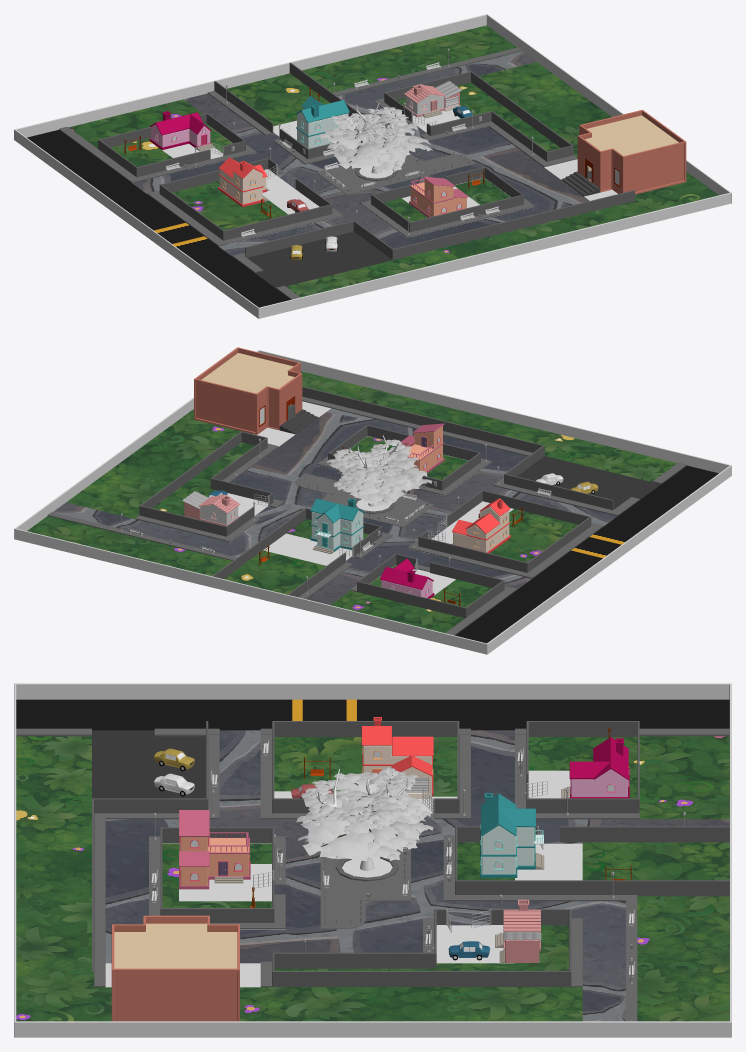
File: AllStreet.fbx
3 renders of one model, top to bottom at view 1: azimuth 30°, elevation 25°; view 2: azimuth 150°, elevation 25°; view 3: azimuth 270°, elevation 25°, orthographic. The views are drawn at different scales.
Parts seen in each view (by area): view 1: Plane.055, Plane.083, ca, Plane.014, Cylinder.011, Plane.013, Plane.011, Plane.012, Plane.009, Plane.029, Plane.084, Plane.005 (+12 smaller); view 2: Plane.055, Plane.083, ca, Cylinder.011, Plane.014, Plane.013, Plane.011, Plane.009, Plane.005, Plane.029, Plane.084, Plane.012 (+13 smaller); view 3: Plane.055, Plane.083, ca, Cylinder.011, Plane.013, Plane.005, Plane.029, Plane.011, Plane.009, Plane.040, Plane.036, Plane.012 (+23 smaller).
Part boxes in pixels (box(x1,y1,x2,y2)): Plane.055: box(27, 25, 718, 307); Plane.083: box(14, 14, 731, 318); ca: box(577, 109, 686, 194); Plane.014: box(245, 190, 634, 259); Cylinder.011: box(320, 107, 433, 171); Plane.013: box(384, 71, 573, 161); Plane.011: box(159, 158, 332, 240); Plane.012: box(371, 166, 523, 232); Plane.009: box(98, 113, 245, 177); Plane.029: box(316, 152, 475, 195); Plane.084: box(59, 126, 300, 299); Plane.005: box(214, 62, 360, 159); Plane.055: box(27, 371, 718, 643); Plane.083: box(14, 350, 731, 654); ca: box(194, 347, 302, 434); Cylinder.011: box(326, 439, 432, 506); Plane.014: box(302, 386, 613, 510); Plane.013: box(139, 431, 273, 536); Plane.011: box(418, 490, 591, 572); Plane.009: box(357, 553, 504, 618); Plane.005: box(212, 508, 381, 597); Plane.029: box(295, 473, 434, 527); Plane.084: box(445, 462, 686, 635); Plane.012: box(328, 425, 480, 490); Plane.055: box(16, 699, 729, 1021); Plane.083: box(14, 683, 731, 1037); ca: box(111, 915, 239, 1021); Cylinder.011: box(296, 767, 433, 861); Plane.013: box(272, 909, 571, 986); Plane.005: box(455, 826, 729, 896); Plane.029: box(320, 843, 410, 928); Plane.011: box(272, 721, 459, 813); Plane.009: box(526, 721, 639, 813); Plane.040: box(94, 735, 219, 986); Plane.036: box(443, 835, 637, 1021); Plane.012: box(160, 827, 274, 922).
Size of the model in its own units: 7028 by 888 by 6288.
